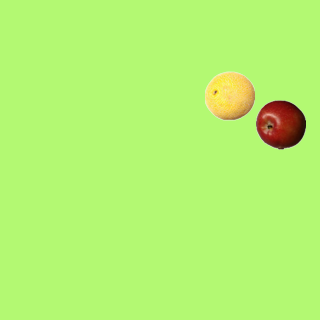Apple Braeburn: (255, 99, 305, 149)
Cantaloupe 1: (204, 70, 254, 120)
